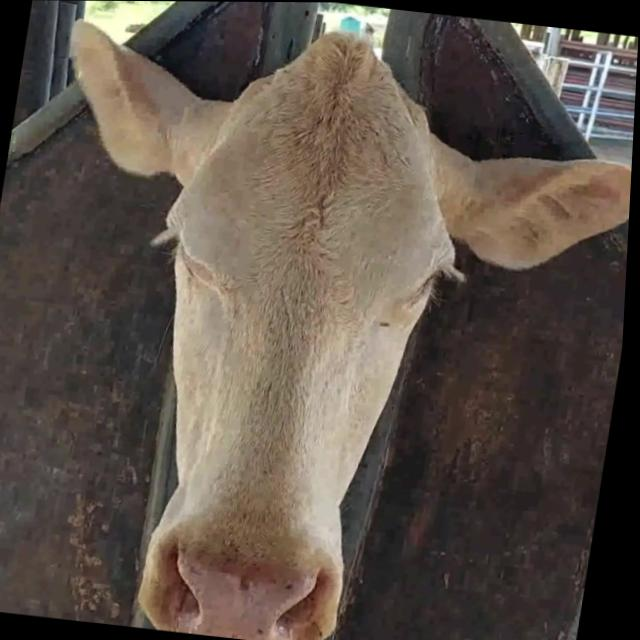cowFace: (117, 9, 478, 640)
